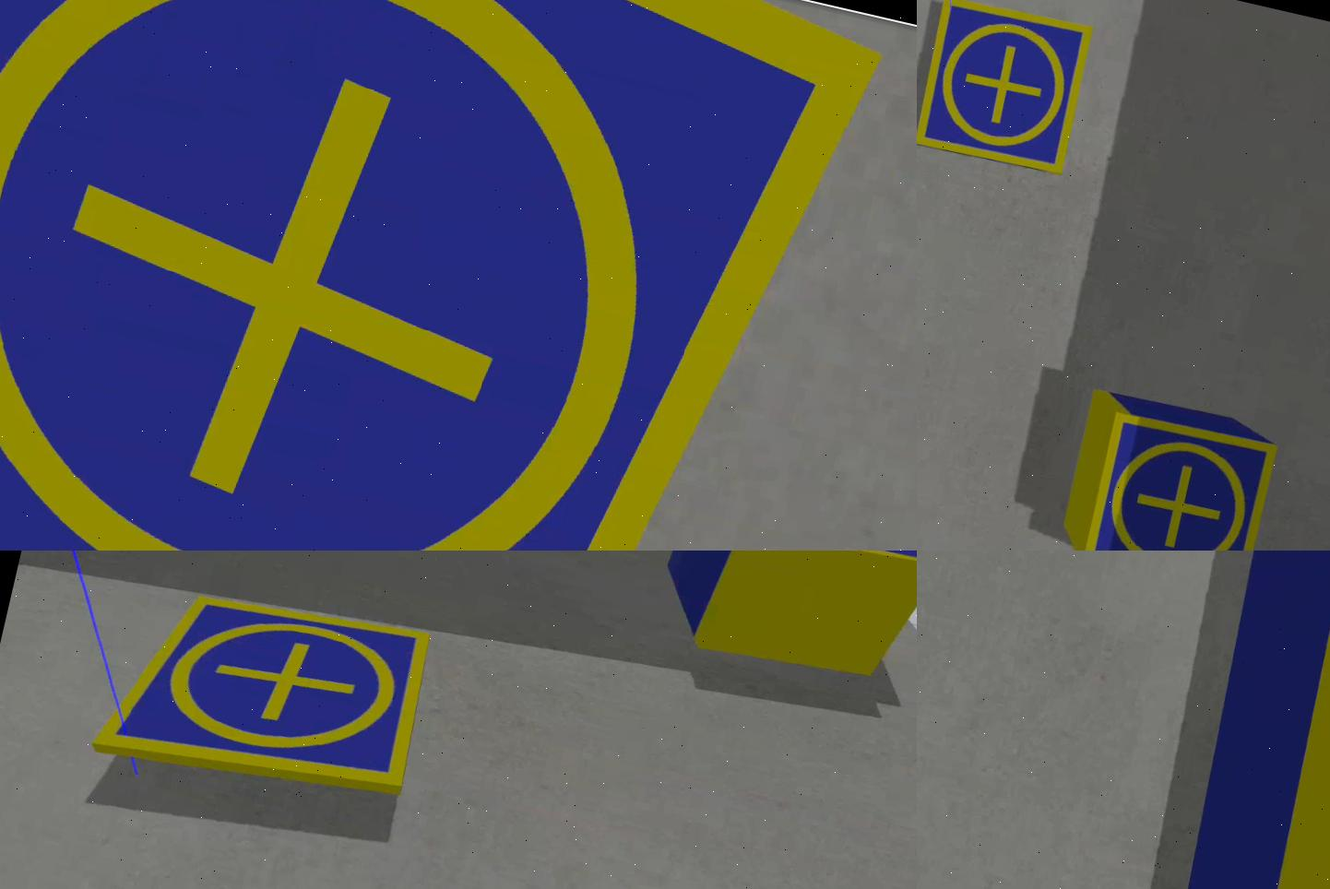large_base: (1148, 551, 1330, 889), (28, 551, 266, 576)
small_base: (1, 1, 896, 551), (94, 568, 443, 819), (918, 1, 1096, 178), (1076, 408, 1280, 551), (702, 551, 918, 580)
